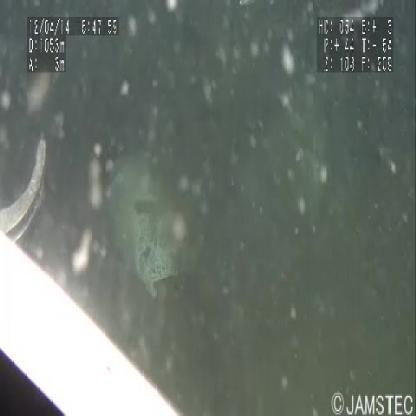Rác: (104, 148, 182, 305)
